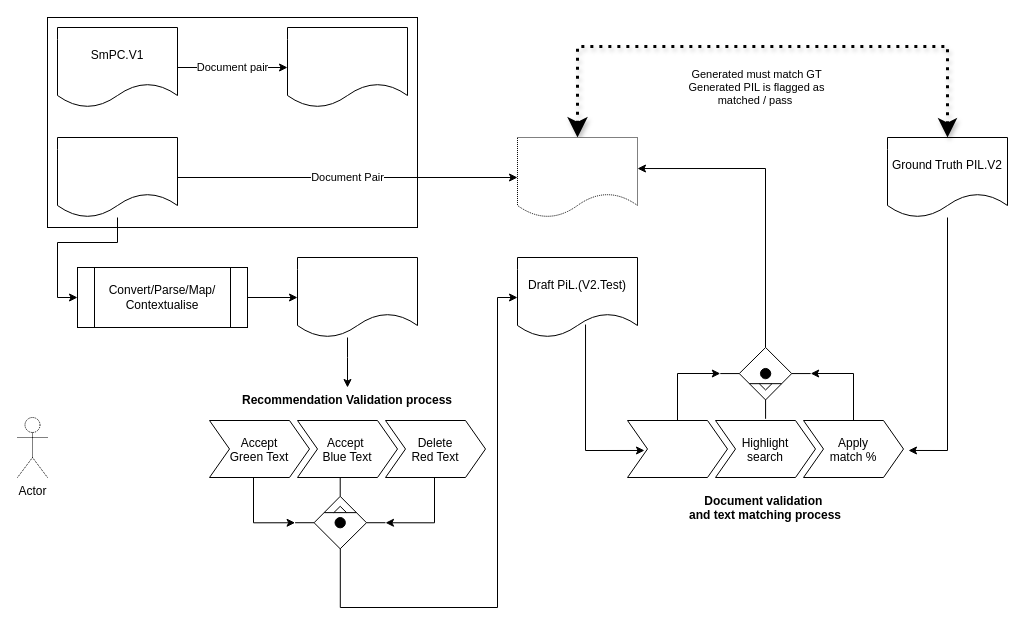
Some shapes in this 1025 by 633 pixel diagram are drawn without their labels. Each missing label, with the centre of its shape:
Document compare: (x=677, y=449)
Generated PIL (V2.R) contains ML recommendations: (x=357, y=297)
PIL.V1: (x=347, y=67)
PIL.V2 (generated): (x=577, y=177)
SmPC.V2: (x=117, y=177)
